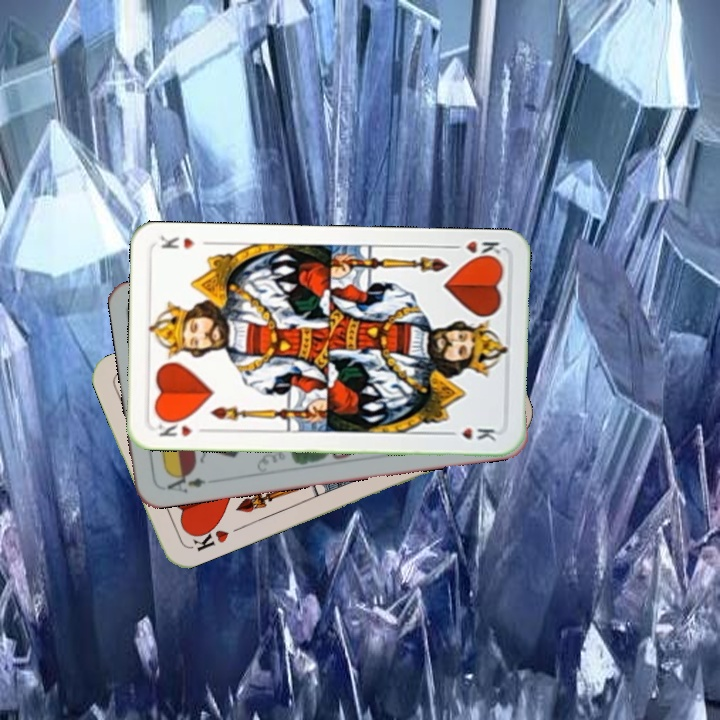EA: (163, 468, 208, 496)
HK: (183, 519, 232, 554), (445, 236, 503, 263), (154, 415, 210, 440)
